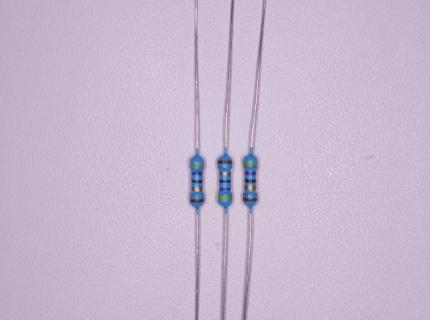Black band: (219, 179, 231, 184), (245, 178, 256, 183), (191, 180, 202, 184)
Brown band: (189, 198, 204, 204), (242, 197, 258, 202), (217, 160, 232, 165)
Gold band: (244, 185, 256, 191), (191, 186, 202, 192), (219, 171, 231, 176)
Violet band: (244, 171, 256, 176), (191, 171, 203, 176), (219, 188, 231, 191)
Yellow band: (243, 161, 258, 167), (218, 195, 232, 201), (189, 162, 204, 167)
